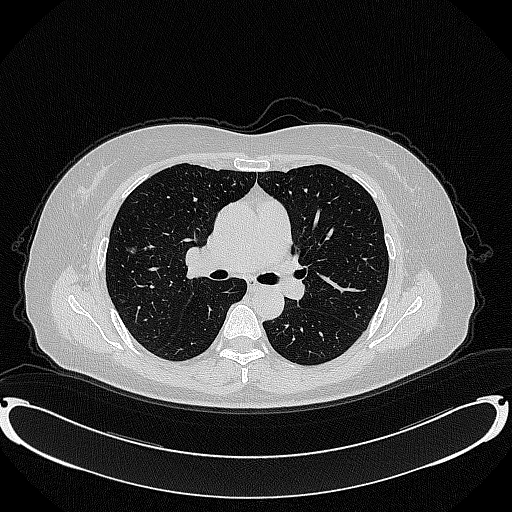nodule: (125, 246, 136, 253)
